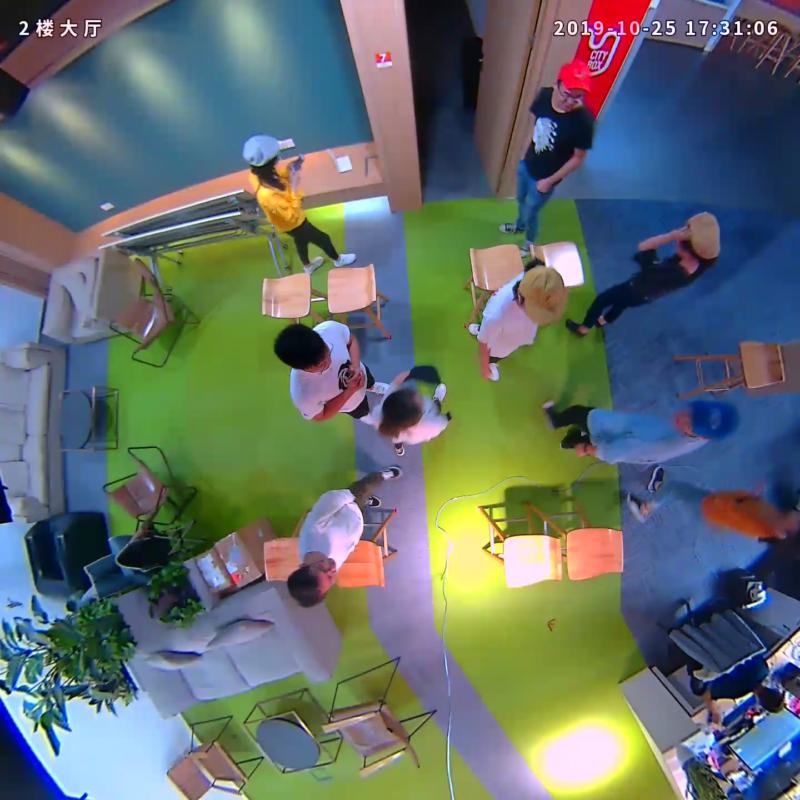head: (515, 264, 568, 324), (272, 323, 333, 374), (675, 399, 739, 442), (286, 556, 338, 608), (677, 210, 721, 261), (552, 60, 592, 111), (382, 385, 425, 426), (242, 134, 282, 170)
